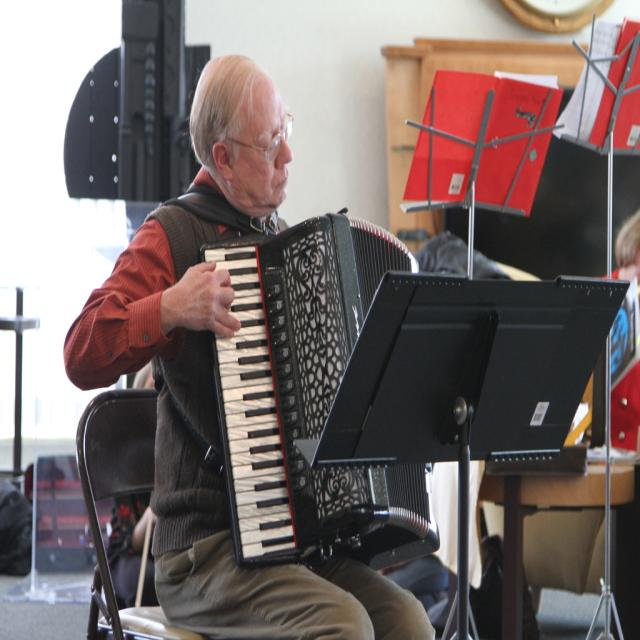Person: (63, 54, 436, 640), (595, 206, 639, 640)
